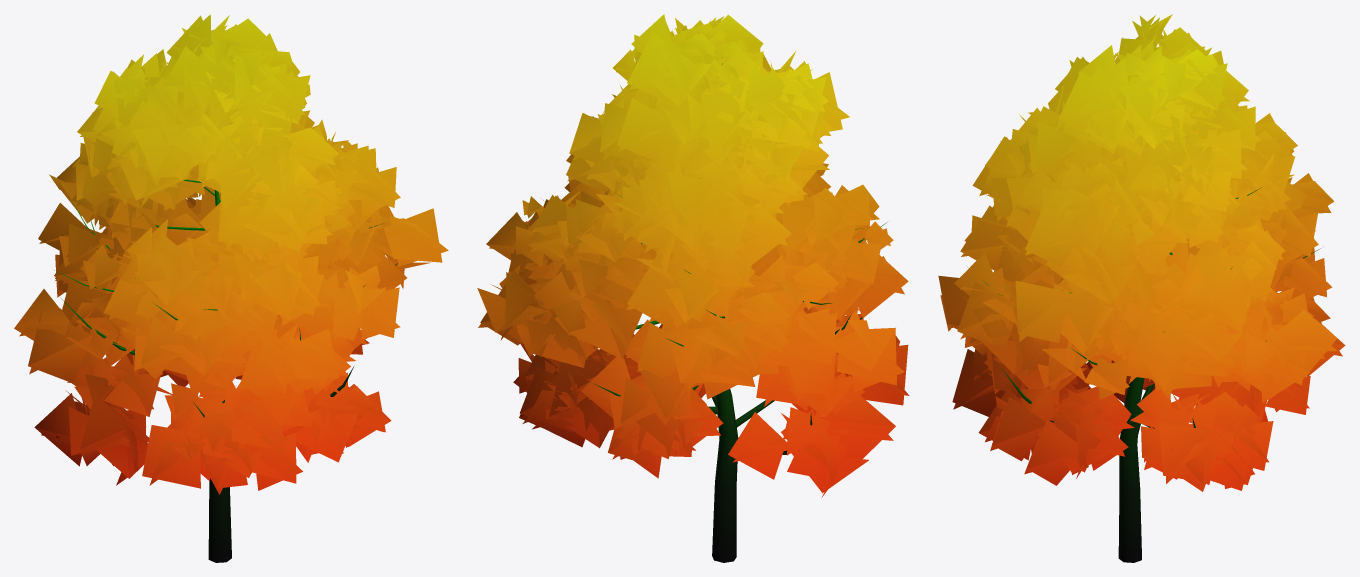
The model's file is big_tree.obj.
The picture shows the model from 3 angles, left to right: view 1: azimuth 30°, elevation 25°; view 2: azimuth 150°, elevation 25°; view 3: azimuth 270°, elevation 25°; orthographic projection. The views are drawn at different scales.
Parts seen in each view (by area): view 1: BigTree; view 2: BigTree; view 3: BigTree.
Part boxes in pixels (x1,y1,x2,y2): BigTree: (14, 14, 448, 562); BigTree: (477, 14, 909, 562); BigTree: (938, 14, 1345, 562).
Bounding box in the file's own units: 26.6 × 35.52 × 24.93.
